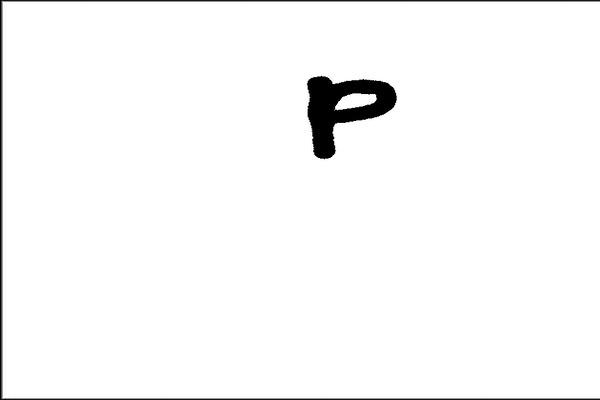P: (291, 69, 402, 164)
